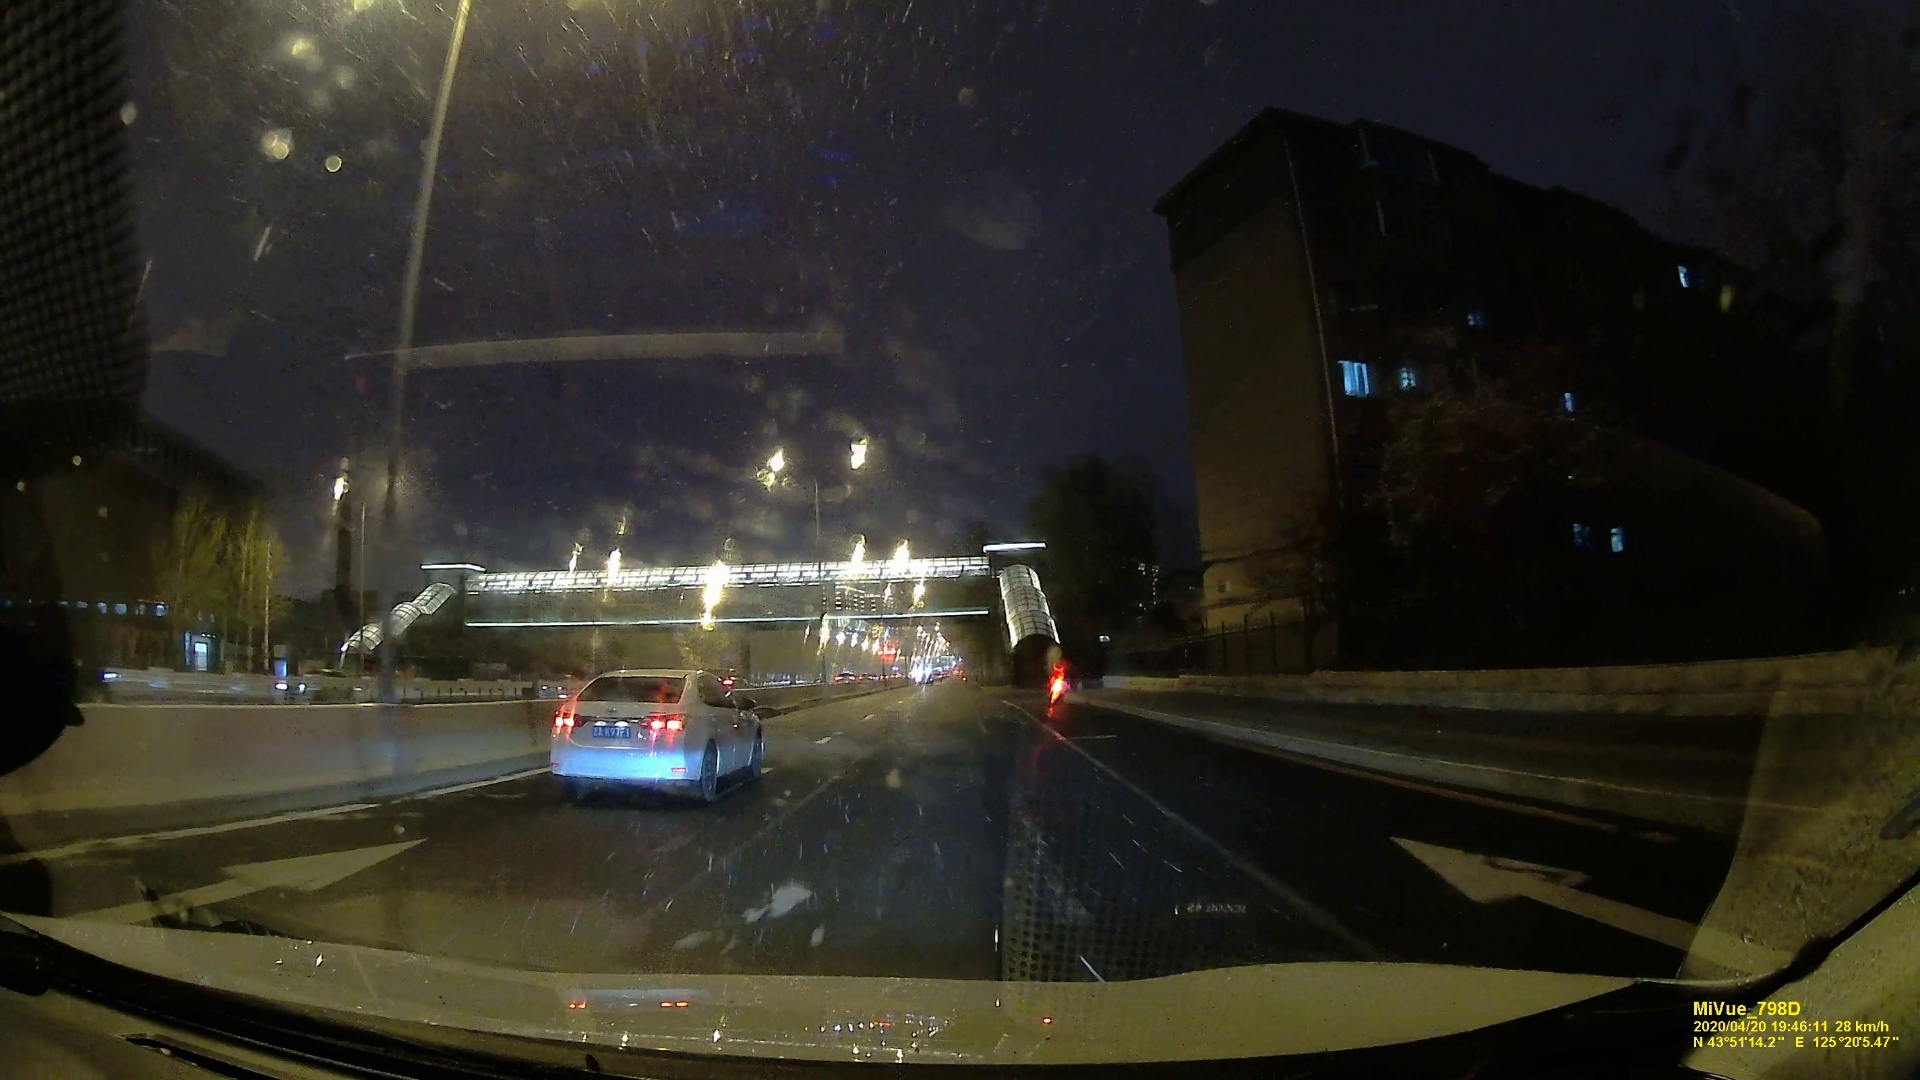vehicle: (545, 663, 773, 811), (273, 667, 352, 700)
